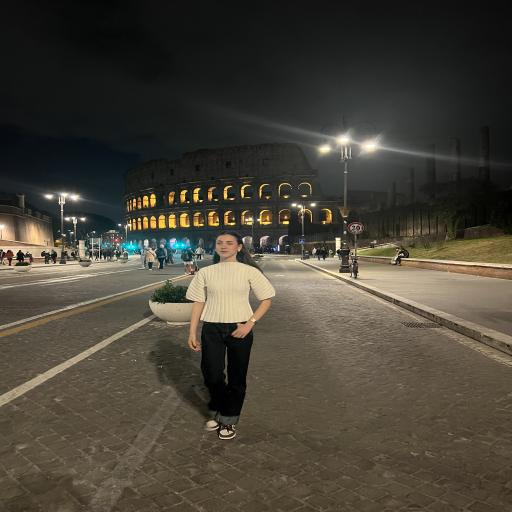masa: (214, 235, 242, 256)
